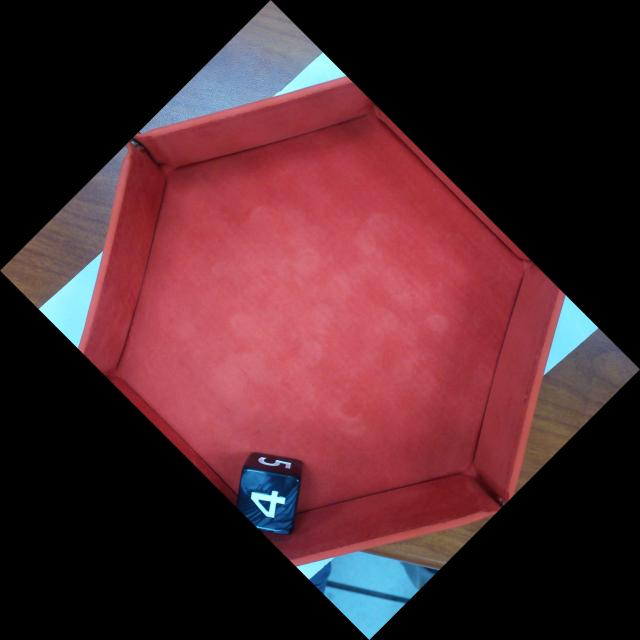dice: (236, 468, 303, 536)
